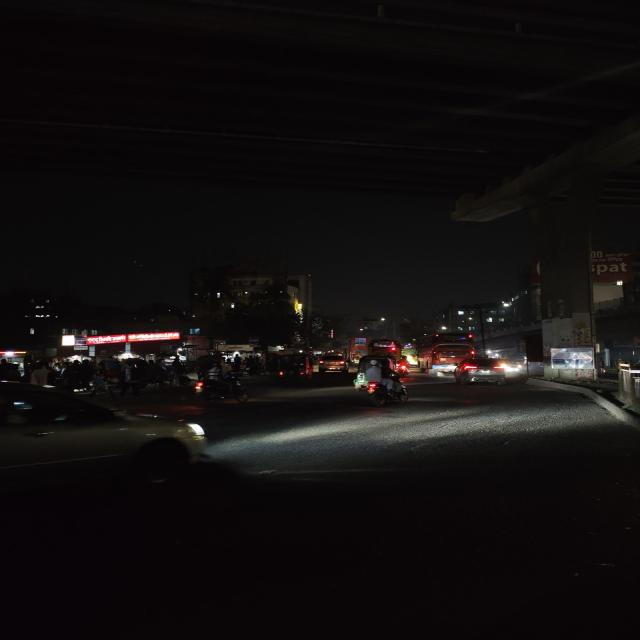bus: (416, 332, 476, 370)
car: (0, 390, 218, 489), (450, 356, 510, 388), (315, 353, 349, 376)
motorcycle: (191, 370, 252, 407), (363, 361, 411, 408)
rickshaw: (96, 356, 147, 398), (124, 354, 169, 390), (274, 351, 313, 382)
